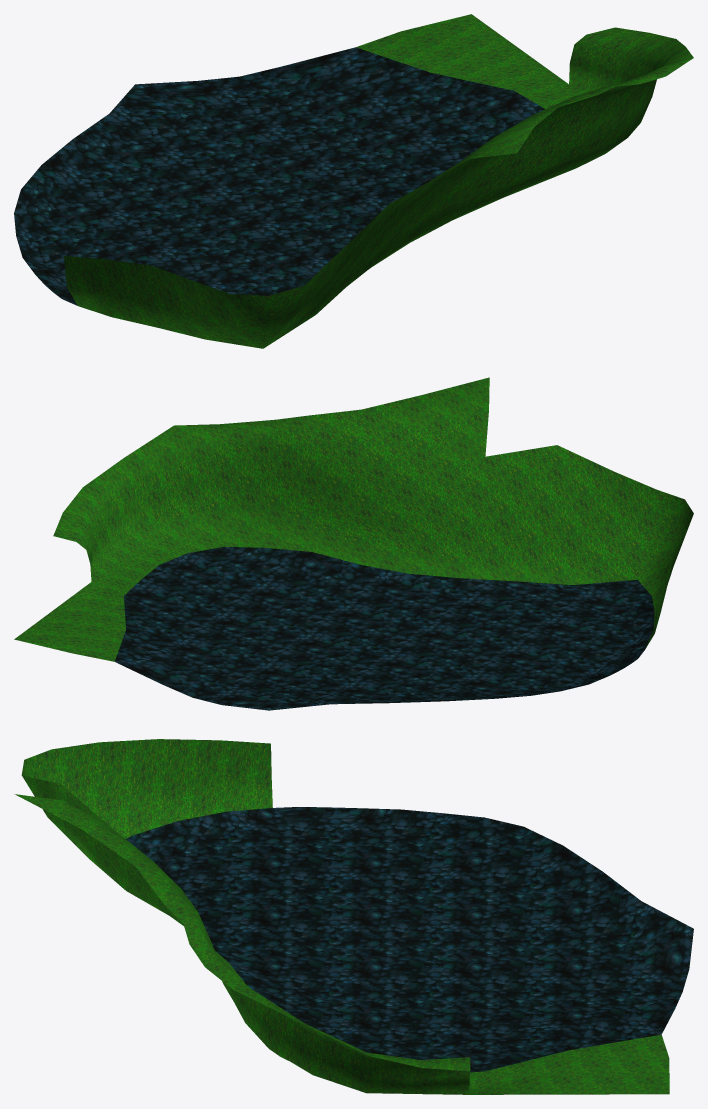
The model's file is HTOWN01_PS19.fbx.
3 views of the same model, one above another, from view 1: azimuth 30°, elevation 25°; view 2: azimuth 150°, elevation 25°; view 3: azimuth 270°, elevation 25° (orthographic). The views are drawn at different scales.
Visible parts, largest first — view 1: HTOWN01_PS19; view 2: HTOWN01_PS19; view 3: HTOWN01_PS19.
Boxes of the visible parts, x1,y1,x2,y2 form: HTOWN01_PS19: (14, 14, 693, 348); HTOWN01_PS19: (14, 377, 693, 710); HTOWN01_PS19: (14, 739, 693, 1094).
Bounding box in the file's own units: 518776 × 131604 × 445072.
Materials: 3 (3 with a texture image).
